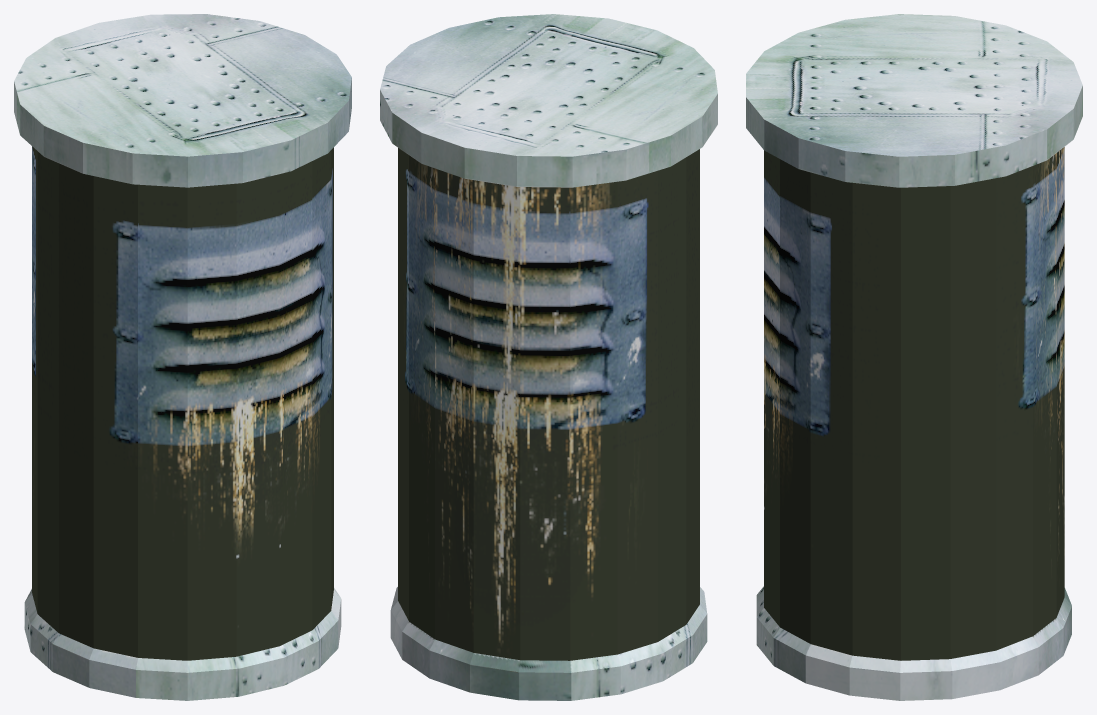
Rendered from Debris1b.obj.
3 views of the same model, side by side, from view 1: azimuth 30°, elevation 25°; view 2: azimuth 150°, elevation 25°; view 3: azimuth 270°, elevation 25° (orthographic).
Parts seen in each view (by area): view 1: Cylinder; view 2: Cylinder; view 3: Cylinder.
Boxes of the visible parts, x1,y1,x2,y2 form: Cylinder: (14,14,351,700); Cylinder: (380,14,717,700); Cylinder: (746,14,1082,700).
Size of the model in its own units: 0.8733 by 1.56 by 0.8703.
